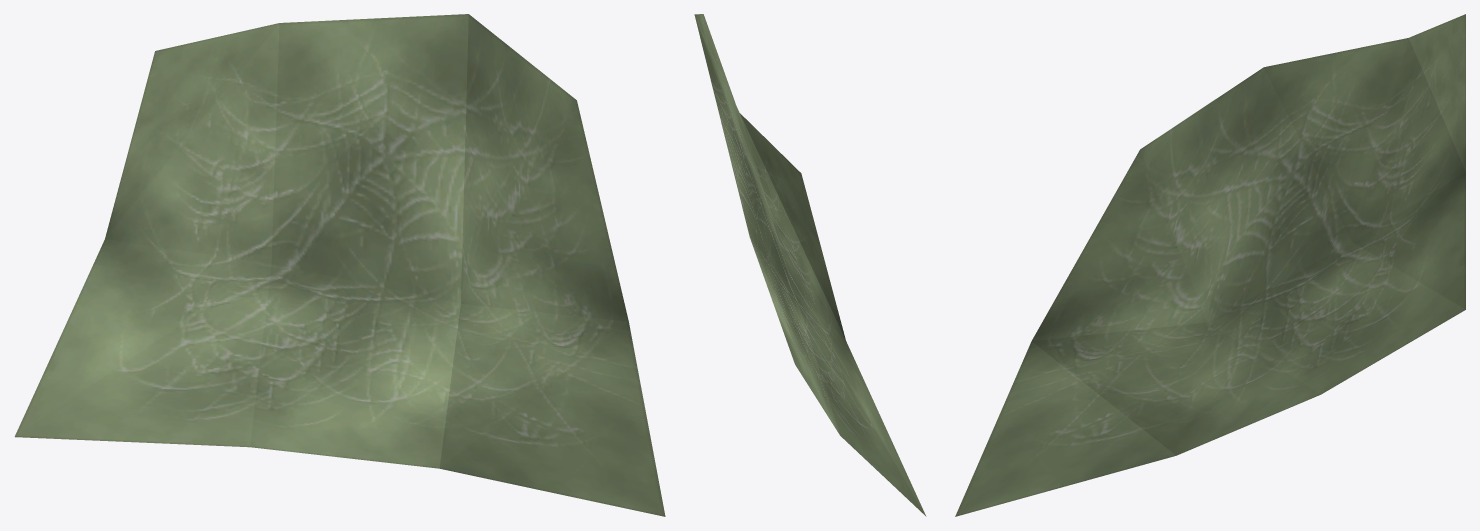
File: cobweb1.fbx
The picture shows the model from 3 angles, left to right: view 1: azimuth 30°, elevation 25°; view 2: azimuth 150°, elevation 25°; view 3: azimuth 270°, elevation 25°; orthographic projection. The views are drawn at different scales.
Visible parts, largest first — view 1: obj0.018; view 2: obj0.018; view 3: obj0.018.
Boxes of the visible parts, x1,y1,x2,y2 form: obj0.018: (14,14,665,516); obj0.018: (694,14,926,516); obj0.018: (955,14,1465,516).
Size of the model in its own units: 2.71 by 2.59 by 2.82.
